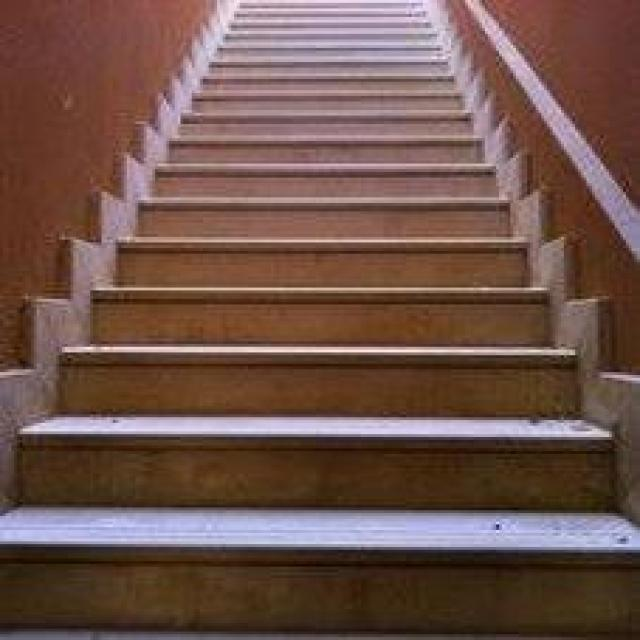upstair: (30, 261, 605, 509)
